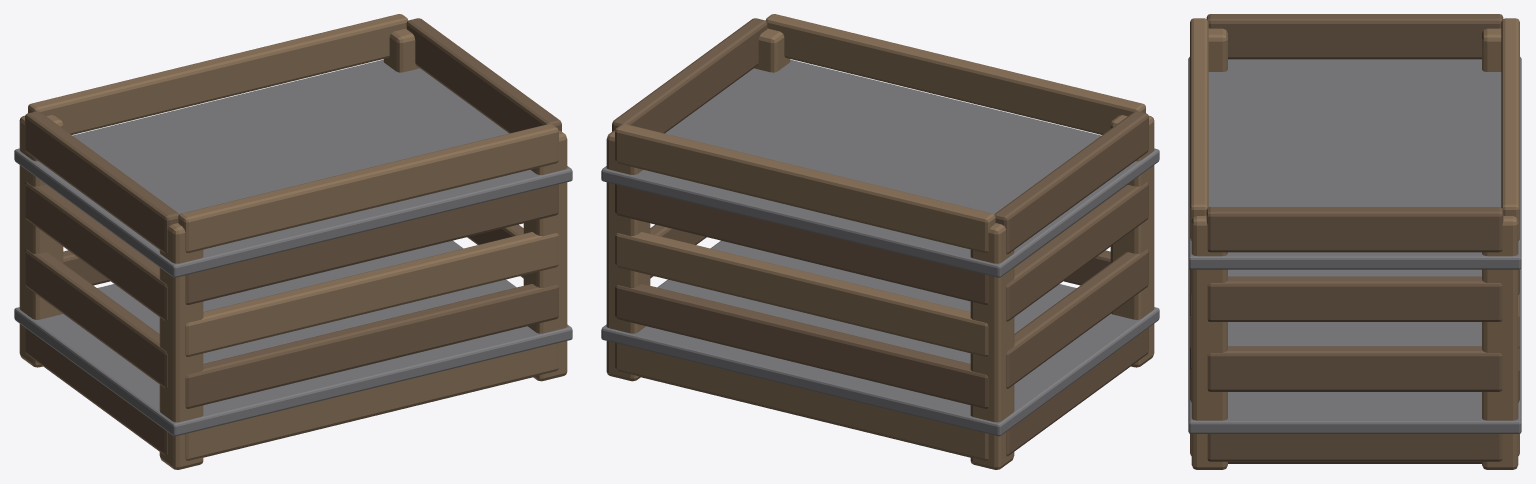
Rendered from crate.glb.
3 renders of one model, left to right at view 1: azimuth 30°, elevation 25°; view 2: azimuth 150°, elevation 25°; view 3: azimuth 270°, elevation 25°, orthographic. The views are drawn at different scales.
Visible parts, largest first — view 1: crate; view 2: crate; view 3: crate.
Part boxes in pixels (box(x1,y1,x2,y2)): crate: box(14, 14, 572, 469); crate: box(601, 14, 1159, 469); crate: box(1188, 14, 1521, 469).
Size of the model in its own units: 0.725 by 0.436 by 0.505.
